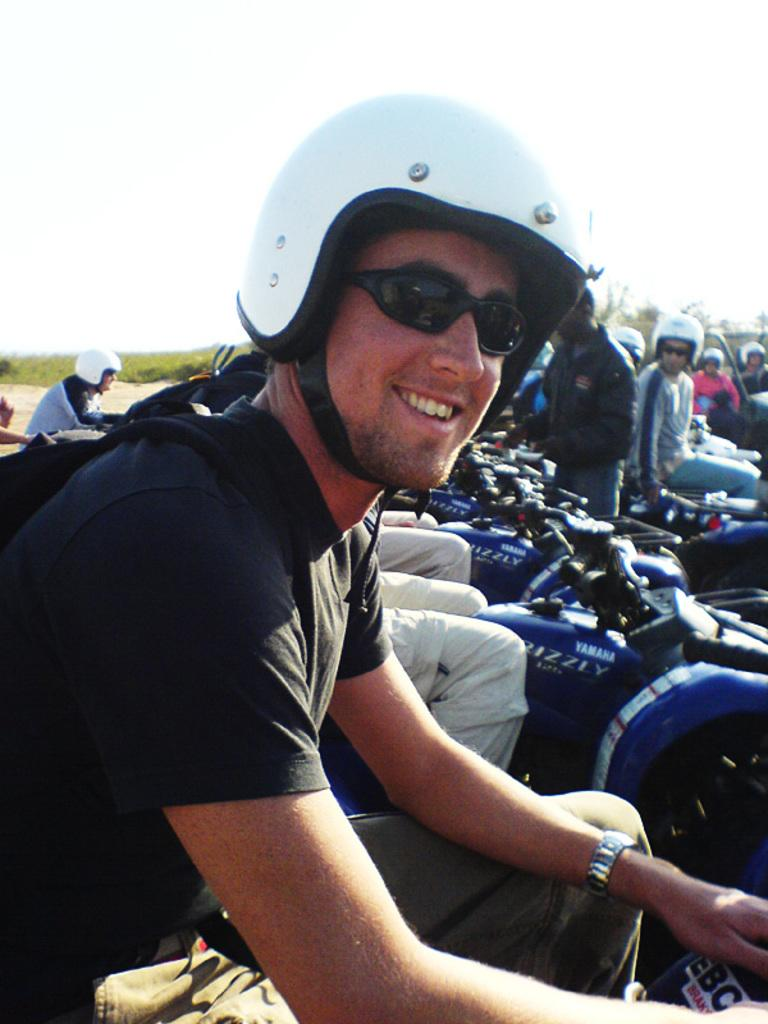helmet: (236, 93, 591, 466), (651, 313, 705, 371), (74, 346, 123, 389), (739, 341, 766, 367), (701, 347, 724, 372)
